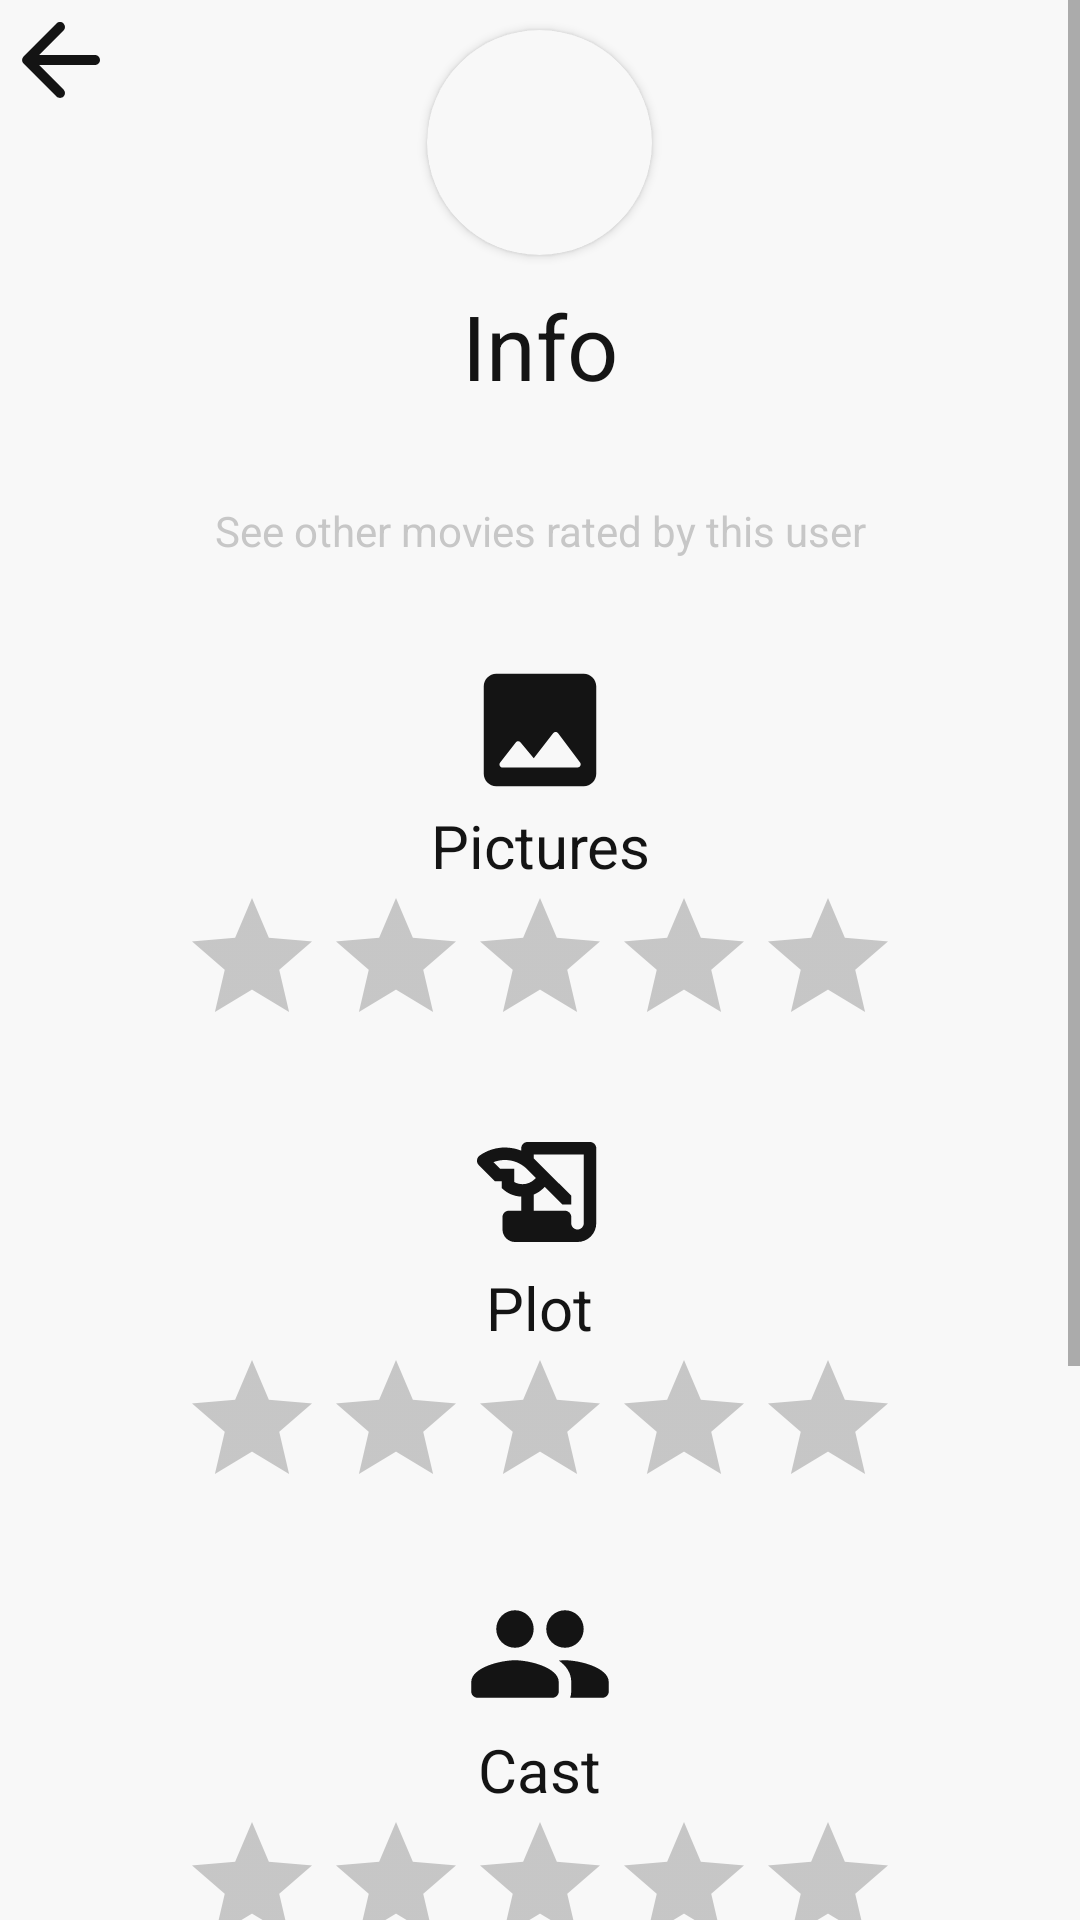

Screen size 1080px×1920px. Icon name, then its box in pixels as (x1, y1, x2, y2):
arrow back: (22, 22, 100, 98)
